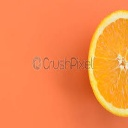orange: (87, 8, 128, 118)
